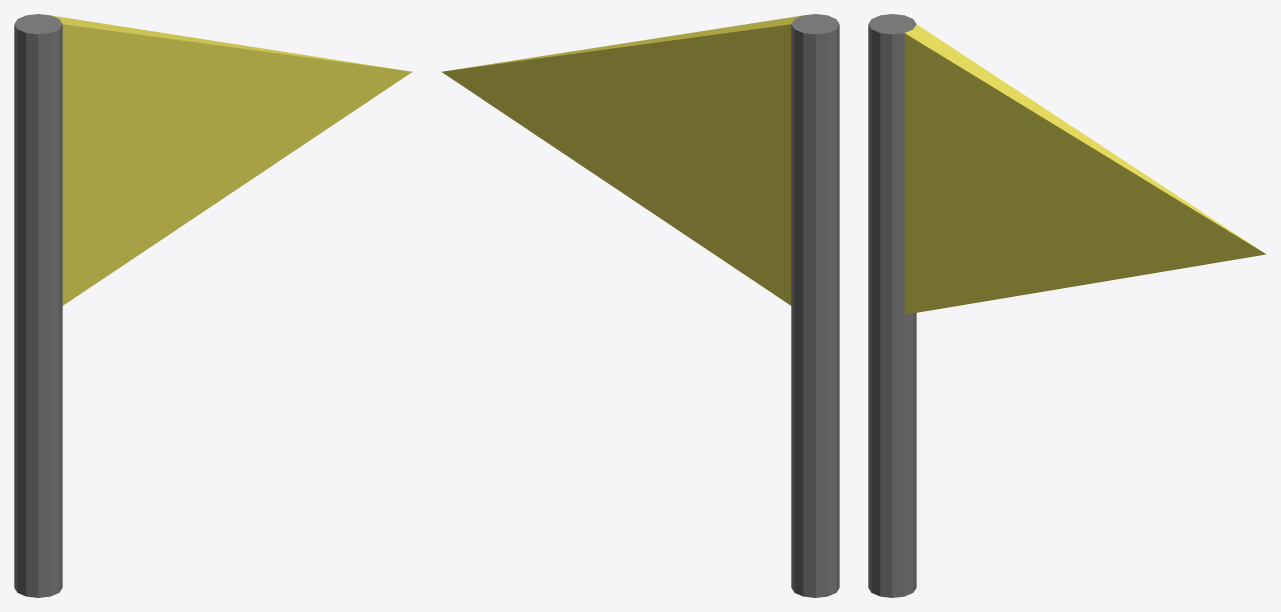
The model's file is F-Flag Triangle.fbx.
The picture shows the model from 3 angles, left to right: view 1: azimuth 30°, elevation 25°; view 2: azimuth 150°, elevation 25°; view 3: azimuth 330°, elevation 25°; orthographic projection.
Parts seen in each view (by area): view 1: FlagTriangle; view 2: FlagTriangle; view 3: FlagTriangle.
Boxes of the visible parts, bbox=[...] form: FlagTriangle: bbox=[14, 14, 412, 597]; FlagTriangle: bbox=[441, 14, 839, 597]; FlagTriangle: bbox=[868, 14, 1266, 597].
Bounding box in the file's own units: 4.72 × 6.43 × 0.5.
